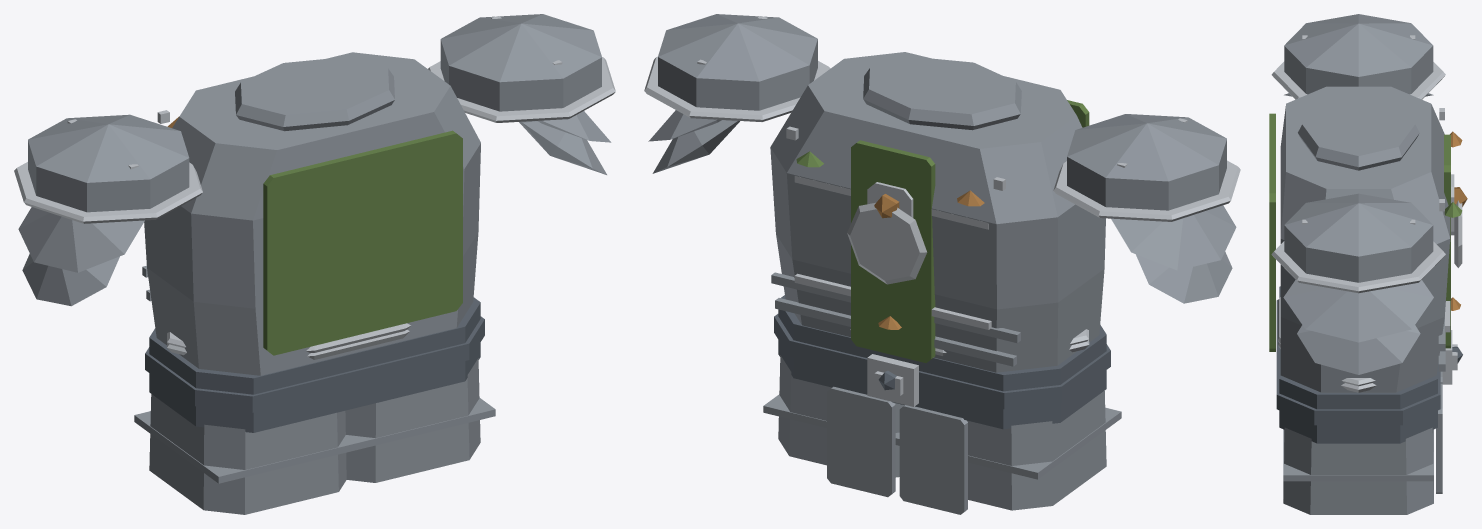
Rendered from armor_greatsword_s3.fbx.
3 views of the same model, side by side, from view 1: azimuth 30°, elevation 25°; view 2: azimuth 150°, elevation 25°; view 3: azimuth 270°, elevation 25° (orthographic). The views are drawn at different scales.
Parts seen in each view (by area): view 1: Chest_Body, Chest_Attach, Shoulder_L_Body, Chest_Inner, Tasset_L_Body, Shoulder_R_Body, Tasset_R_Body, Shoulder_L_Trim, Shoulder_R_Trim, Chest_Trim, Chest_Trim_Ep; view 2: Chest_Body, Shoulder_L_Body, Tasset_L_Body, Chest_Inner, Shoulder_R_Body, Chest_Attach, Tasset_R_Body, Chest_Trim, Shoulder_L_Trim, Shoulder_R_Trim; view 3: Chest_Body, Shoulder_R_Body, Tasset_R_Body, Shoulder_L_Body, Chest_Inner, Chest_Attach, Shoulder_R_Trim, Chest_Trim, Shoulder_L_Trim, Chest_Trim_Ep.
Boxes of the visible parts, box(x1,y1,x2,y2) form: Chest_Body: box(142, 52, 480, 375); Chest_Attach: box(263, 130, 462, 355); Shoulder_L_Body: box(18, 114, 189, 306); Chest_Inner: box(145, 297, 484, 432); Tasset_L_Body: box(134, 394, 364, 514); Shoulder_R_Body: box(440, 14, 611, 174); Tasset_R_Body: box(343, 358, 495, 482); Shoulder_L_Trim: box(14, 119, 202, 223); Shoulder_R_Trim: box(428, 16, 615, 122); Chest_Trim: box(157, 110, 409, 359); Chest_Trim_Ep: box(167, 323, 410, 353); Chest_Body: box(770, 52, 1105, 372); Shoulder_L_Body: box(1067, 114, 1236, 303); Tasset_L_Body: box(895, 391, 1121, 514); Chest_Inner: box(774, 295, 1110, 429); Shoulder_R_Body: box(648, 14, 817, 173); Chest_Attach: box(796, 100, 1089, 362); Tasset_R_Body: box(763, 355, 904, 497); Chest_Trim: box(786, 126, 1089, 406); Shoulder_L_Trim: box(1053, 118, 1240, 221); Shoulder_R_Trim: box(644, 16, 830, 121); Chest_Body: box(1280, 86, 1450, 392); Shoulder_R_Body: box(1283, 193, 1433, 374); Tasset_R_Body: box(1283, 383, 1442, 514); Shoulder_L_Body: box(1284, 14, 1433, 96); Chest_Inner: box(1276, 286, 1462, 443); Chest_Attach: box(1269, 113, 1462, 351); Shoulder_R_Trim: box(1271, 219, 1445, 293); Chest_Trim: box(1278, 108, 1462, 392); Shoulder_L_Trim: box(1271, 35, 1445, 99); Chest_Trim_Ep: box(1278, 297, 1375, 386).
Size of the model in its own units: 446 by 289 by 148.
